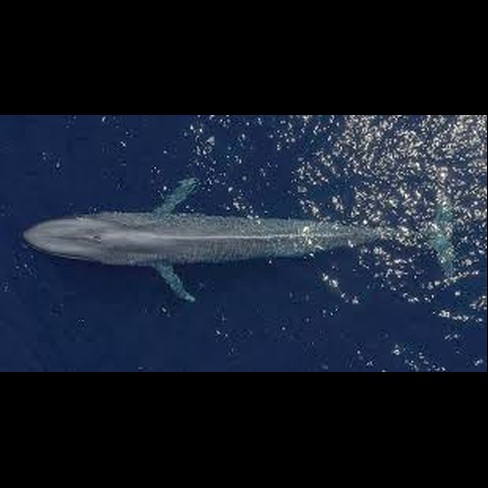bluewhale: (19, 174, 458, 307)
